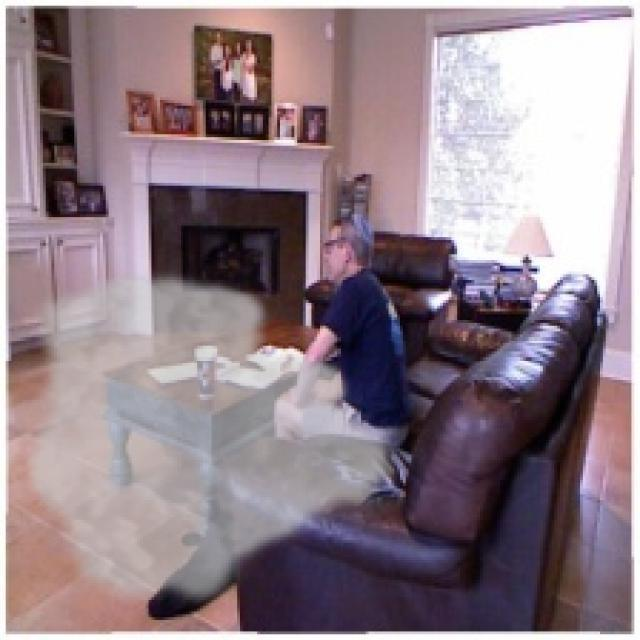Smoke: (20, 266, 403, 614)
